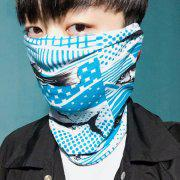OK: (26, 10, 129, 113)
